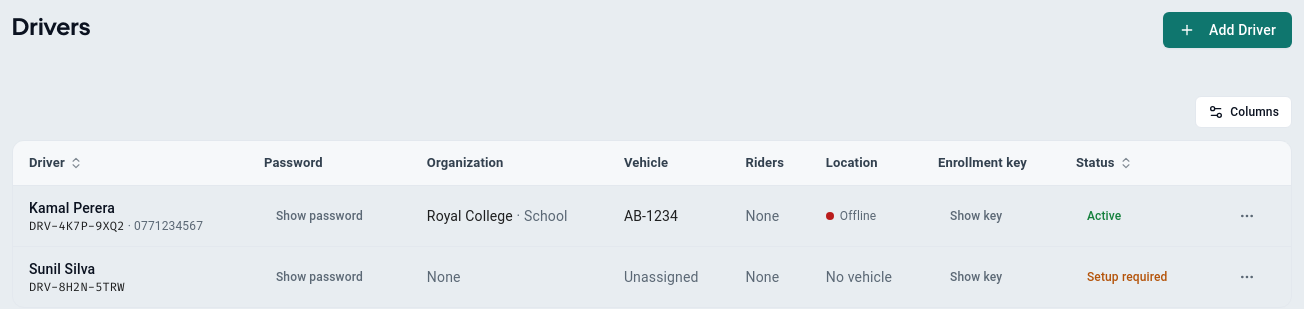
Test: ManagerAccountsPage: enrollment key rotation › shows a Loading… label while a row's key query is fetching
Click the button "Show key" in the row of "Kamal Perera".
click(976, 216)  # box 938,200 -> 1014,232
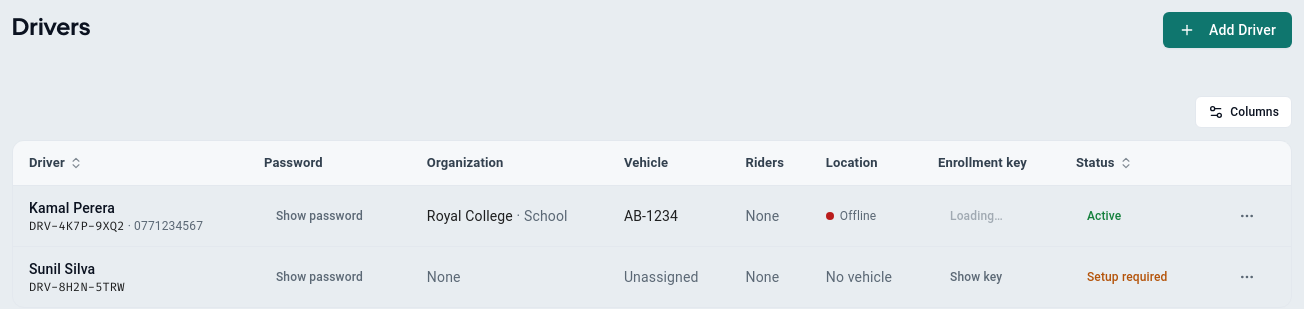
expect the button "Loading…" is shown: met, box 938,200 -> 1015,232
